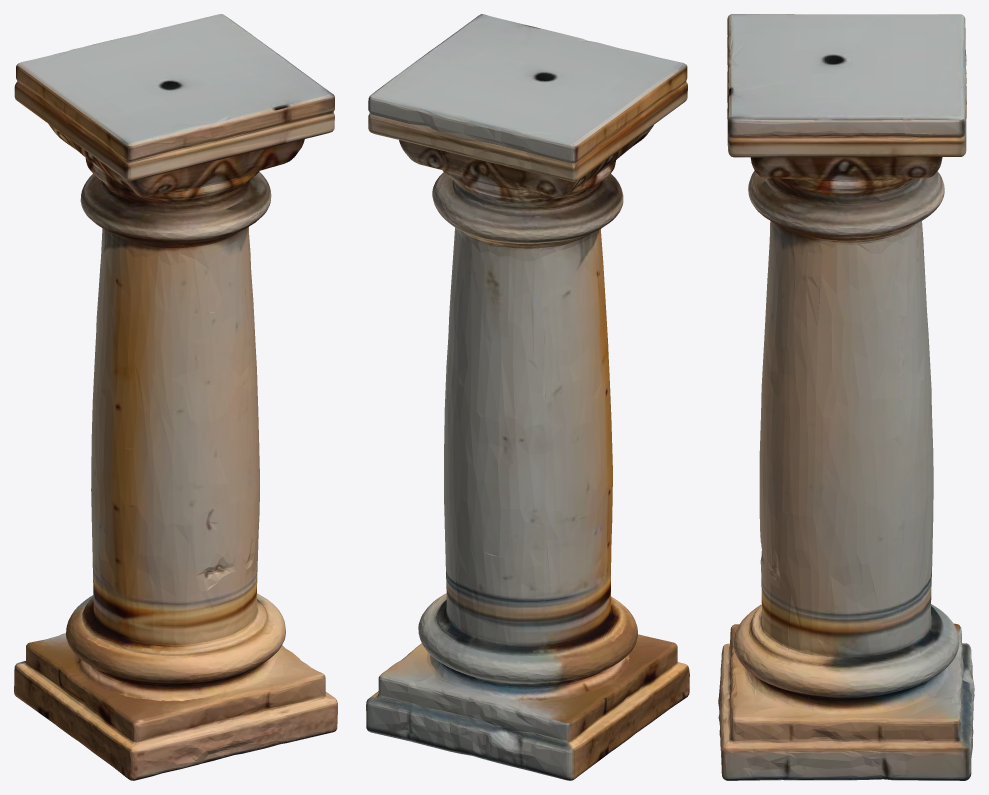
The model's file is weathered-monolith-pillar-generated-2026-04-18t22-01-36-007z-texture-wrap-2026-04-18T23-14-30-195Z.low.glb.
The picture shows the model from 3 angles, left to right: view 1: azimuth 30°, elevation 25°; view 2: azimuth 150°, elevation 25°; view 3: azimuth 270°, elevation 25°; orthographic projection. The views are drawn at different scales.
Visible parts, largest first — view 1: temp_mesh.ply; view 2: temp_mesh.ply; view 3: temp_mesh.ply.
Boxes of the visible parts, x1,y1,x2,y2 form: temp_mesh.ply: (14, 14, 337, 780); temp_mesh.ply: (366, 14, 689, 780); temp_mesh.ply: (718, 14, 974, 780).
Bounding box in the file's own units: 0.6844 × 1.97 × 0.6911.
1 material, 1 textured.
